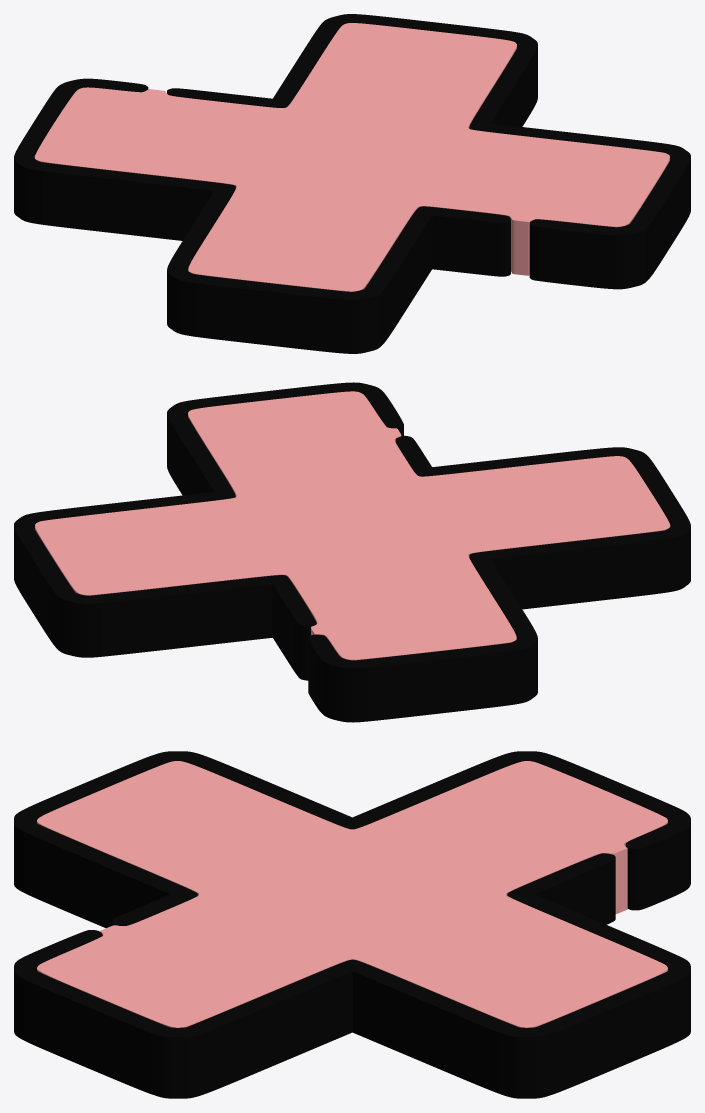
The picture shows the model from 3 angles, top to bottom: view 1: azimuth 30°, elevation 25°; view 2: azimuth 150°, elevation 25°; view 3: azimuth 270°, elevation 25°; orthographic projection. The views are drawn at different scales.
Parts seen in each view (by area): view 1: imagetostl_mesh; view 2: imagetostl_mesh; view 3: imagetostl_mesh.
Part boxes in pixels (x1,y1,x2,y2): imagetostl_mesh: (14, 14, 690, 353); imagetostl_mesh: (14, 382, 690, 722); imagetostl_mesh: (14, 751, 690, 1098).
Size of the model in its own units: 9999 by 1000 by 10000.
